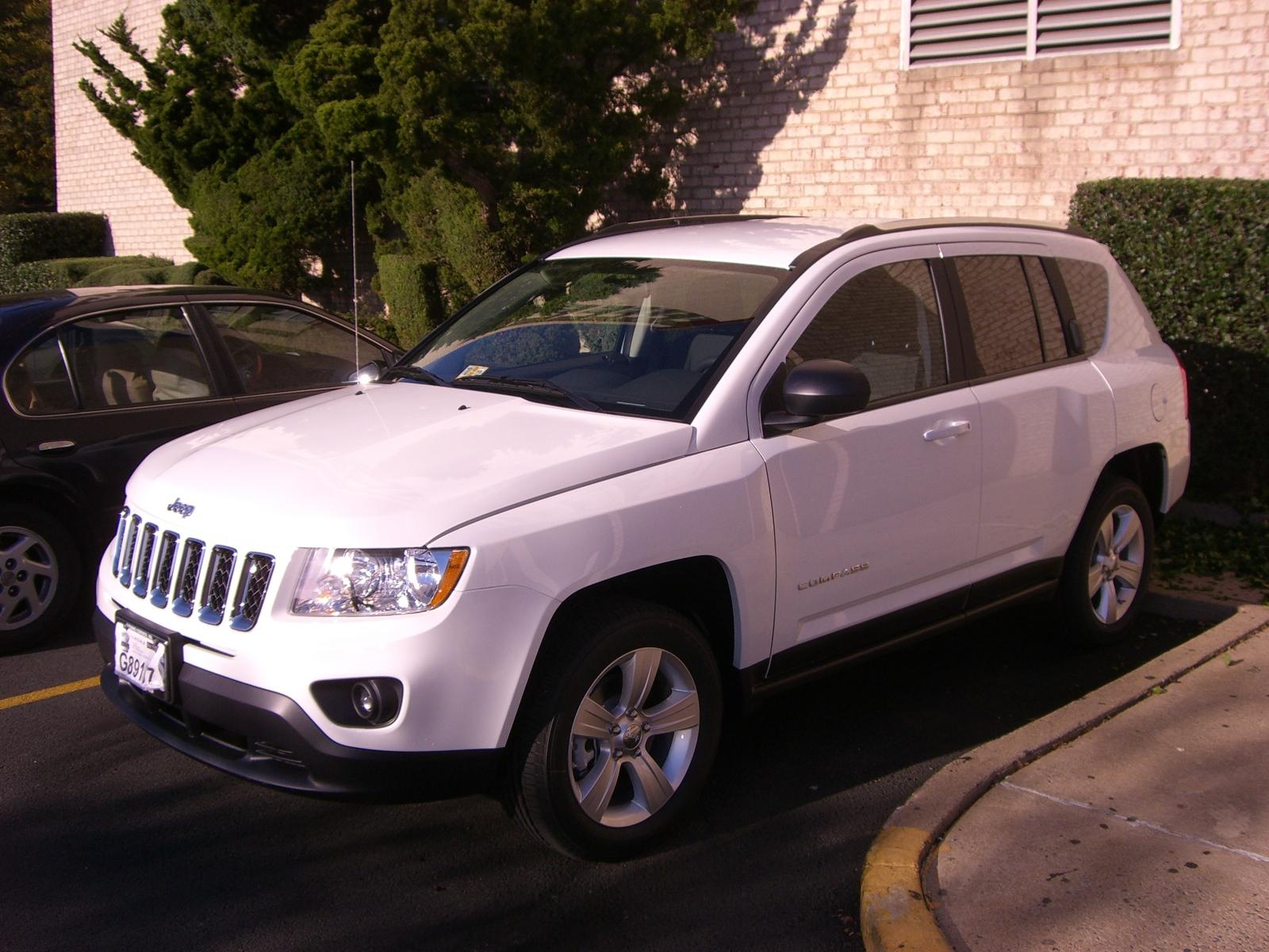Car: (70, 185, 1259, 859), (0, 259, 447, 661)
